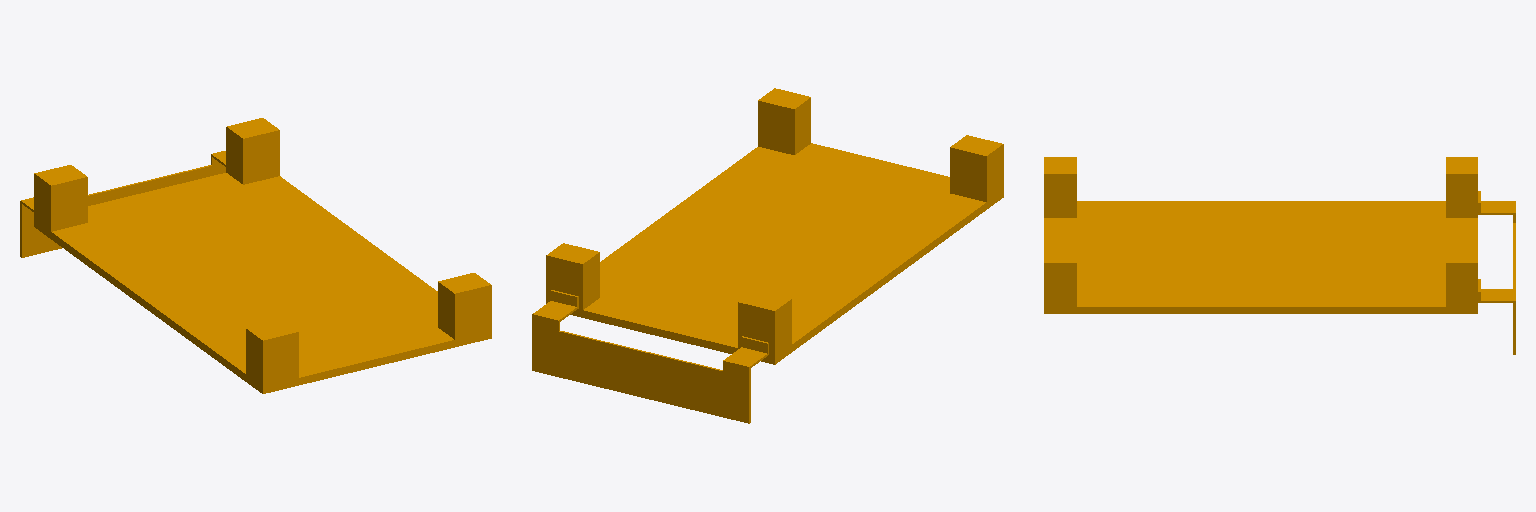
URDF robot description (tray_jig_with_label):
<?xml version="1.0"?>
<robot name="tray_jig_with_label">
  <link name="tray_jig_with_label">
    <visual name="Cube">
      <geometry>
        <mesh filename="meshes/Cube.obj" />
      </geometry>
    </visual>
    <visual name="Cube_01">
      <geometry>
        <mesh filename="meshes/Cube_01.obj" />
      </geometry>
    </visual>
    <visual name="Cube_02">
      <geometry>
        <mesh filename="meshes/Cube_02.obj" />
      </geometry>
    </visual>
    <visual name="Cube_03">
      <geometry>
        <mesh filename="meshes/Cube_03.obj" />
      </geometry>
    </visual>
    <visual name="Cube_04">
      <geometry>
        <mesh filename="meshes/Cube_04.obj" />
      </geometry>
    </visual>
    <visual name="Cube_1">
      <geometry>
        <mesh filename="meshes/Cube_1.obj" />
      </geometry>
    </visual>
    <visual name="Cube_01_1">
      <geometry>
        <mesh filename="meshes/Cube_01_1.obj" />
      </geometry>
    </visual>
    <visual name="Cube_02_1">
      <geometry>
        <mesh filename="meshes/Cube_02_1.obj" />
      </geometry>
    </visual>
    <visual name="Cube_03_1">
      <geometry>
        <mesh filename="meshes/Cube_03_1.obj" />
      </geometry>
    </visual>
    <visual name="Cube_04_1">
      <geometry>
        <mesh filename="meshes/Cube_04_1.obj" />
      </geometry>
    </visual>
    <visual name="Cube_05">
      <geometry>
        <mesh filename="meshes/Cube_05.obj" />
      </geometry>
    </visual>
    <visual name="Cube_06">
      <geometry>
        <mesh filename="meshes/Cube_06.obj" />
      </geometry>
    </visual>
    <visual name="Cube_07">
      <geometry>
        <mesh filename="meshes/Cube_07.obj" />
      </geometry>
    </visual>
    <collision name="Cube">
      <geometry>
        <mesh filename="meshes/Cube.obj" />
      </geometry>
    </collision>
    <collision name="Cube_01">
      <geometry>
        <mesh filename="meshes/Cube_01.obj" />
      </geometry>
    </collision>
    <collision name="Cube_02">
      <geometry>
        <mesh filename="meshes/Cube_02.obj" />
      </geometry>
    </collision>
    <collision name="Cube_03">
      <geometry>
        <mesh filename="meshes/Cube_03.obj" />
      </geometry>
    </collision>
    <collision name="Cube_04">
      <geometry>
        <mesh filename="meshes/Cube_04.obj" />
      </geometry>
    </collision>
    <collision name="Cube_1">
      <geometry>
        <mesh filename="meshes/Cube_1.obj" />
      </geometry>
    </collision>
    <collision name="Cube_01_1">
      <geometry>
        <mesh filename="meshes/Cube_01_1.obj" />
      </geometry>
    </collision>
    <collision name="Cube_02_1">
      <geometry>
        <mesh filename="meshes/Cube_02_1.obj" />
      </geometry>
    </collision>
    <collision name="Cube_03_1">
      <geometry>
        <mesh filename="meshes/Cube_03_1.obj" />
      </geometry>
    </collision>
    <collision name="Cube_04_1">
      <geometry>
        <mesh filename="meshes/Cube_04_1.obj" />
      </geometry>
    </collision>
    <collision name="Cube_05">
      <geometry>
        <mesh filename="meshes/Cube_05.obj" />
      </geometry>
    </collision>
    <collision name="Cube_06">
      <geometry>
        <mesh filename="meshes/Cube_06.obj" />
      </geometry>
    </collision>
    <collision name="Cube_07">
      <geometry>
        <mesh filename="meshes/Cube_07.obj" />
      </geometry>
    </collision>
  </link>
</robot>

--- What the picture shows (computed from the rendered views, not written in the file) ---
3 views of the same robot in one strip: view 1: azimuth 30°, elevation 25°; view 2: azimuth 150°, elevation 25°; view 3: azimuth 270°, elevation 25° (orthographic).
Robot: tray_jig_with_label — 1 links, 0 joints (none); root link tray_jig_with_label; default pose: every joint at zero.
Visible links, largest first — view 1: tray_jig_with_label; view 2: tray_jig_with_label; view 3: tray_jig_with_label.
Boxes of the visible links, x1=… form: tray_jig_with_label: x1=20, y1=118, x2=491, y2=393; tray_jig_with_label: x1=532, y1=88, x2=1003, y2=423; tray_jig_with_label: x1=1044, y1=157, x2=1515, y2=354.
Size in the robot's own frame: 0.156 by 0.2933 by 0.065 metres.
13 mesh visuals loaded from 13 distinct referenced files (13 OBJ).
